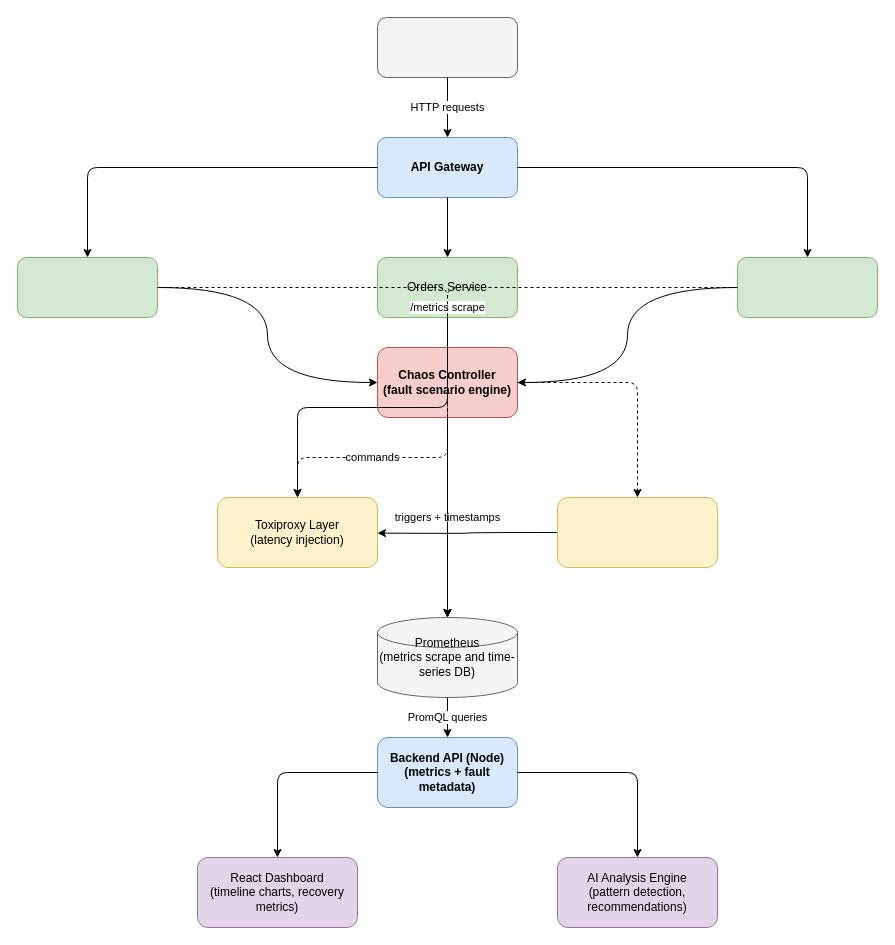
The diagram is 895 pixels wide and 945 high, and some of its shapes have lost their labels. The shapes that lost their labels are listed below. From the top down, each one's centre as x and y in pixels, then its label:
At point 447,47: "Load Generator (continuous traffic)".
At point 87,287: "Auth Service".
At point 807,287: "Payments Service".
At point 637,532: "Docker Engine API (kill / restart)".
